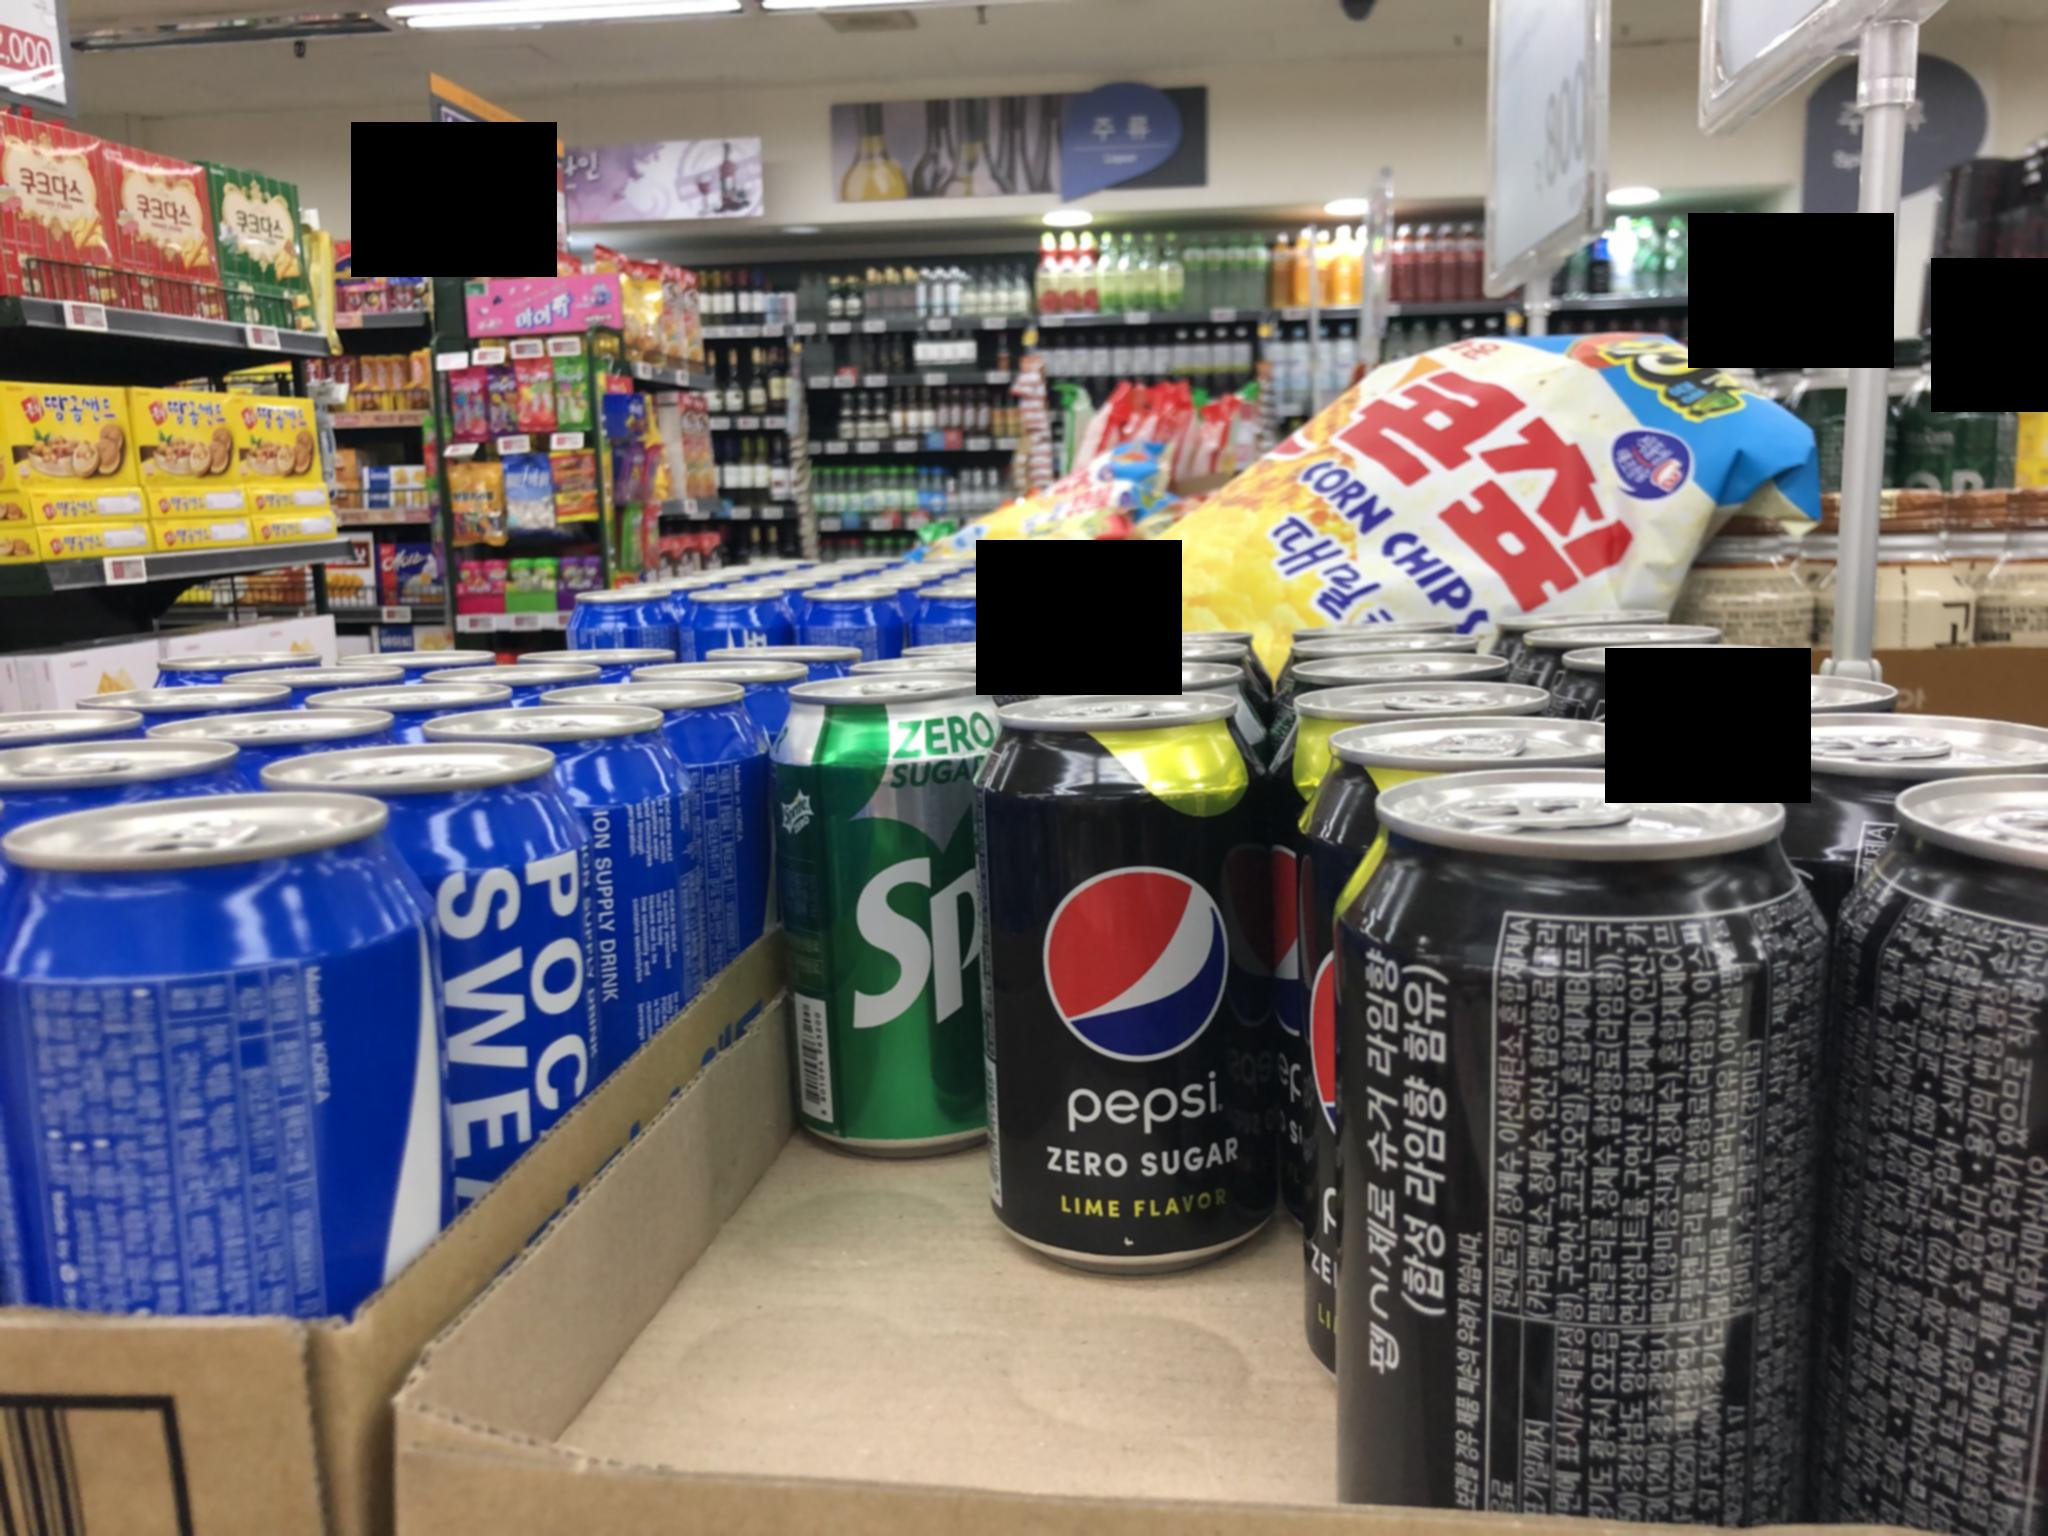pepsi_zero: (1018, 691, 1293, 1291)
